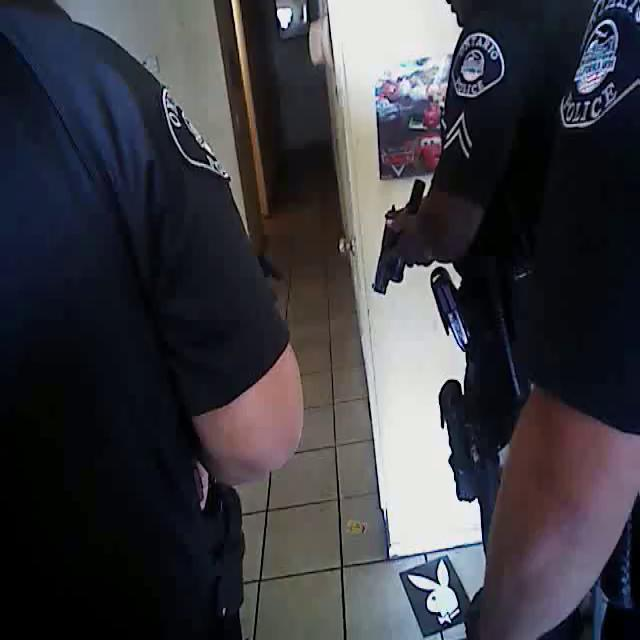gun: (357, 158, 433, 338)
